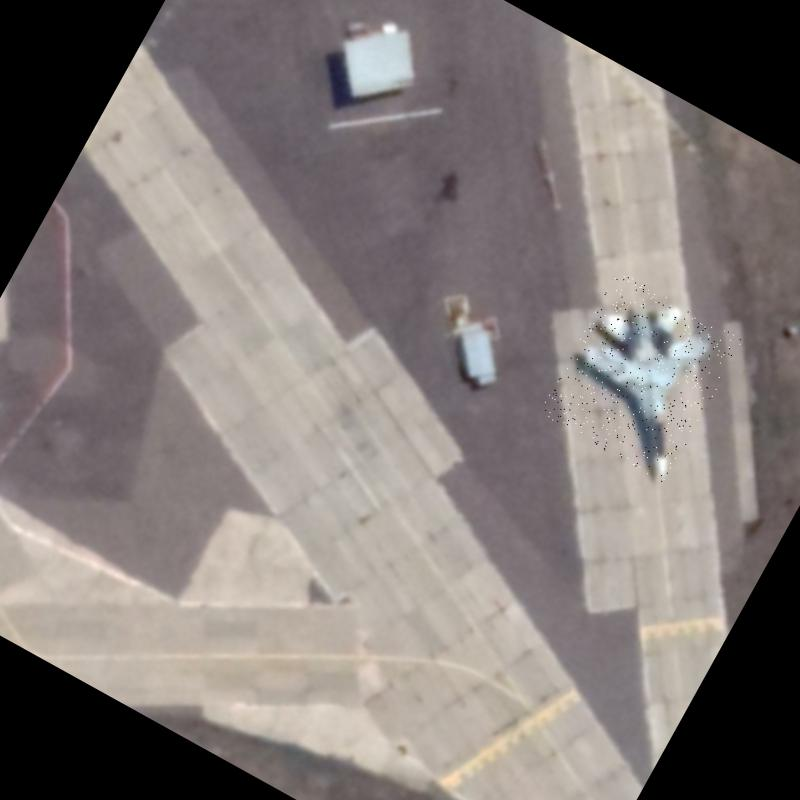A1: (538, 270, 743, 483)
